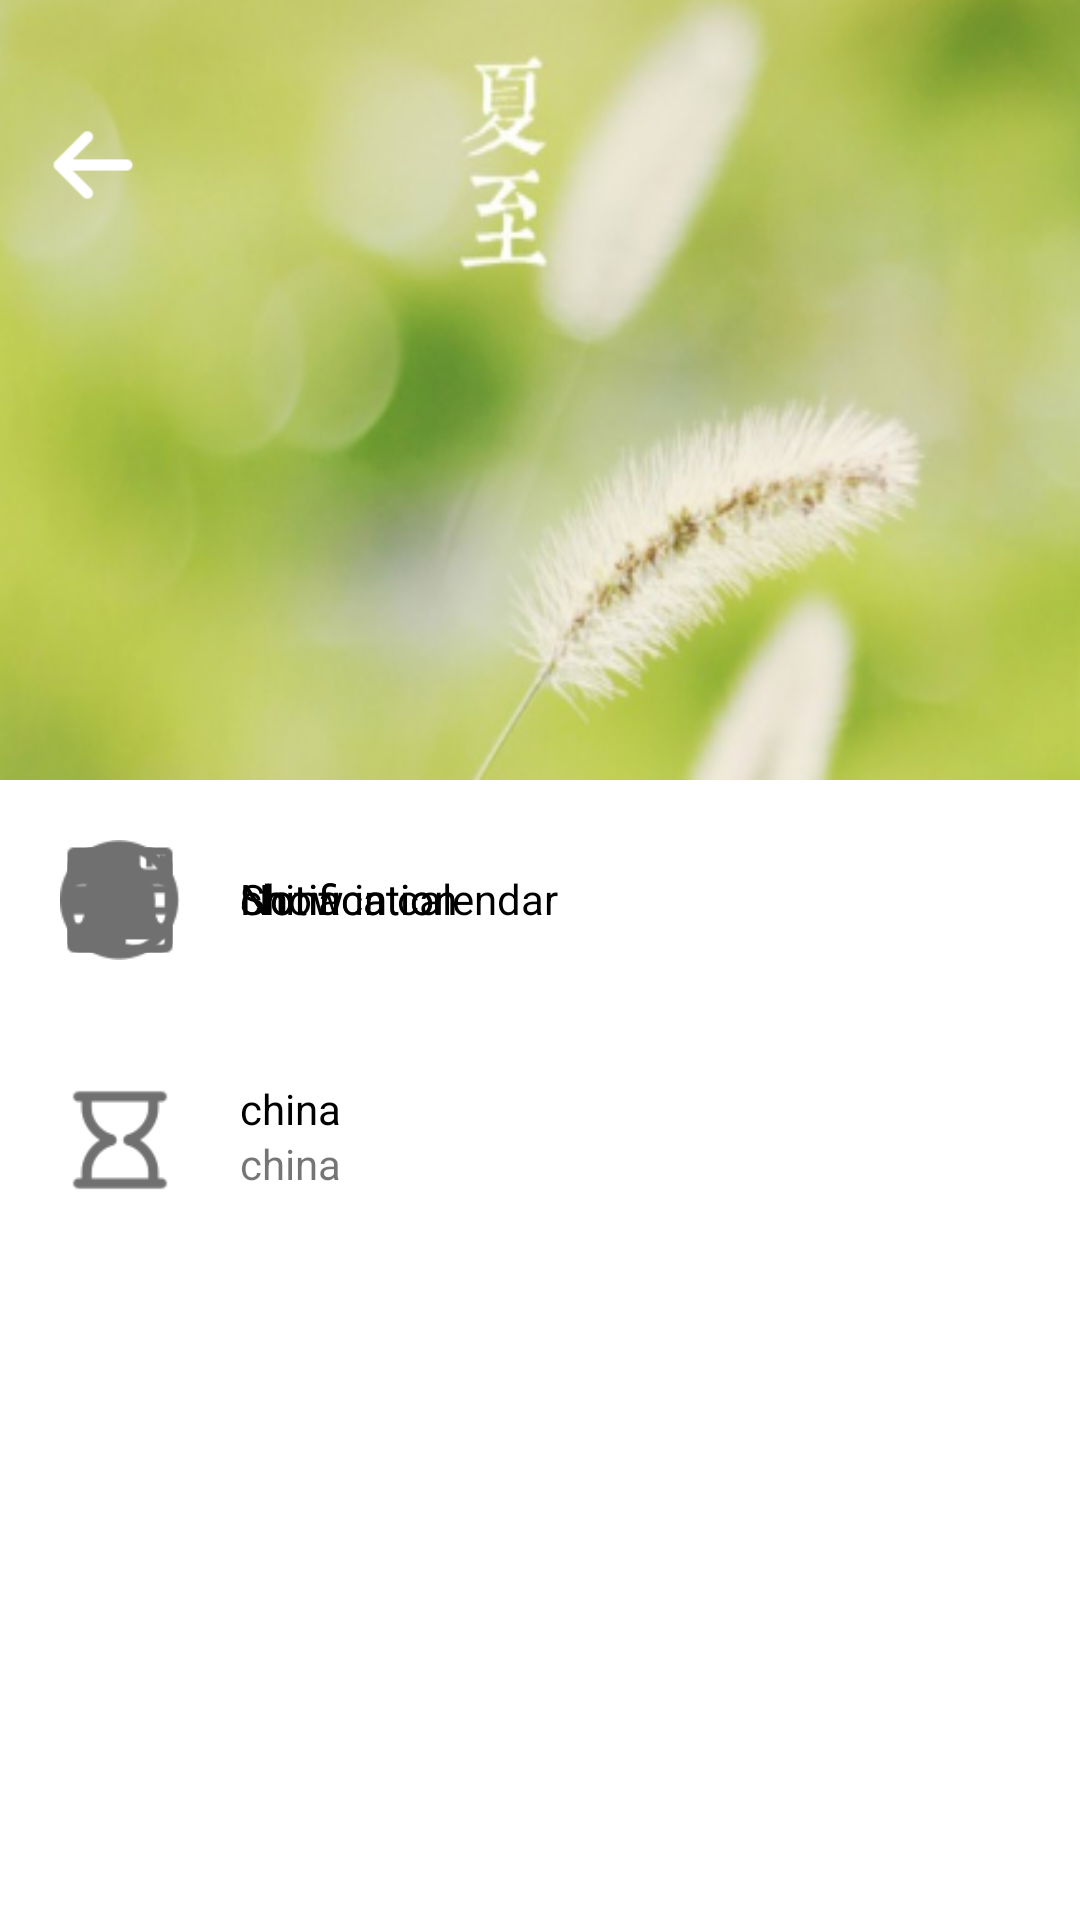

Icon bounding boxes for this 1080px x 1920px phone screenshot, format bbox=[x1, y1, x2, y2]:
back: bbox=[48, 131, 133, 210]
time: bbox=[73, 1091, 167, 1189]
